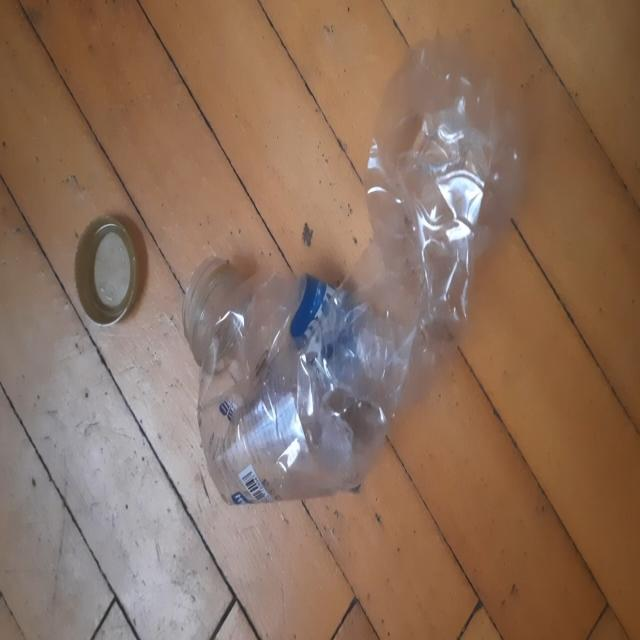Plastic: (192, 36, 514, 506)
